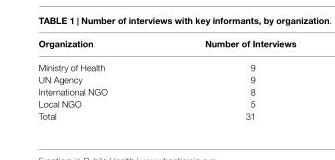table: (37, 37, 295, 120)
table column: (155, 37, 295, 120), (37, 37, 155, 120)
table column header: (37, 37, 295, 54)
table row: (37, 54, 295, 72), (37, 37, 295, 54), (37, 72, 295, 85), (37, 85, 295, 97), (37, 97, 295, 109), (37, 109, 295, 120)
